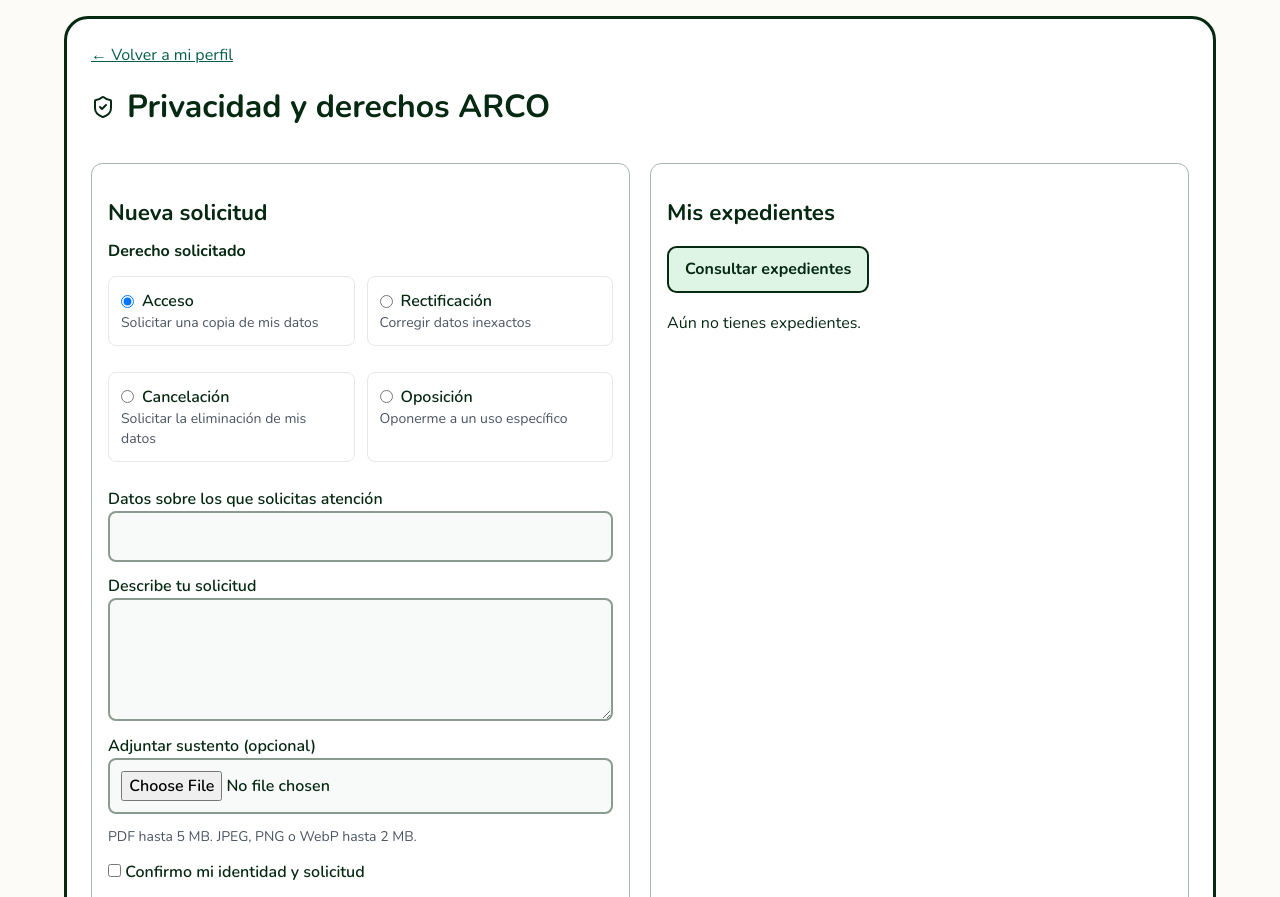
shows a tracking reference only after the case is recorded
Expected: the text "Aún no tienes expedientes." is shown, x1=667 y1=312 x2=861 y2=334
Click the radio button labelled "Rectificación Corregir datos inexactos": (386, 301) x1=380 y1=294 x2=392 y2=308
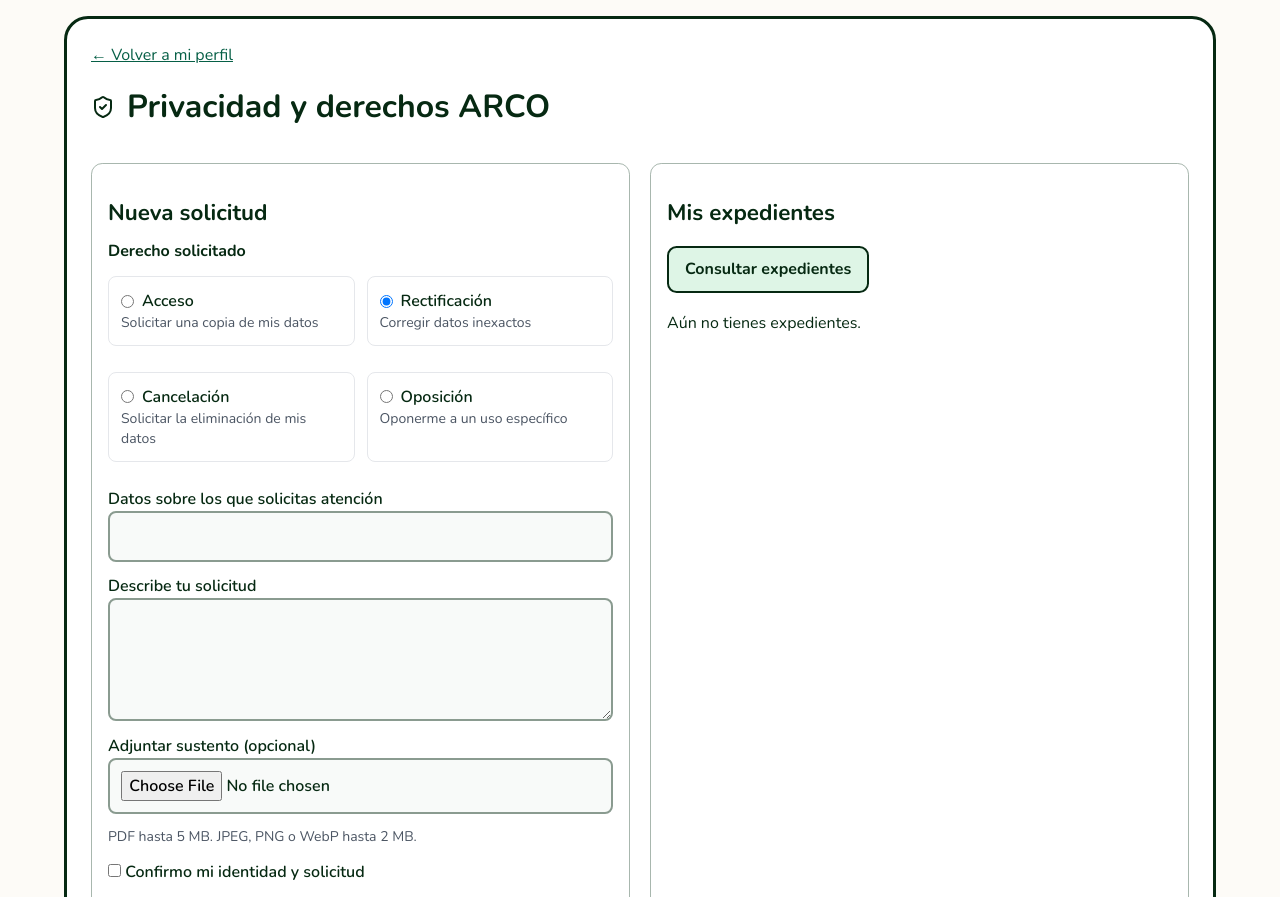
In the field labelled "Datos sobre los que solicitas atención": (360, 536) x1=108 y1=511 x2=613 y2=562, type "Correo de mi perfil"
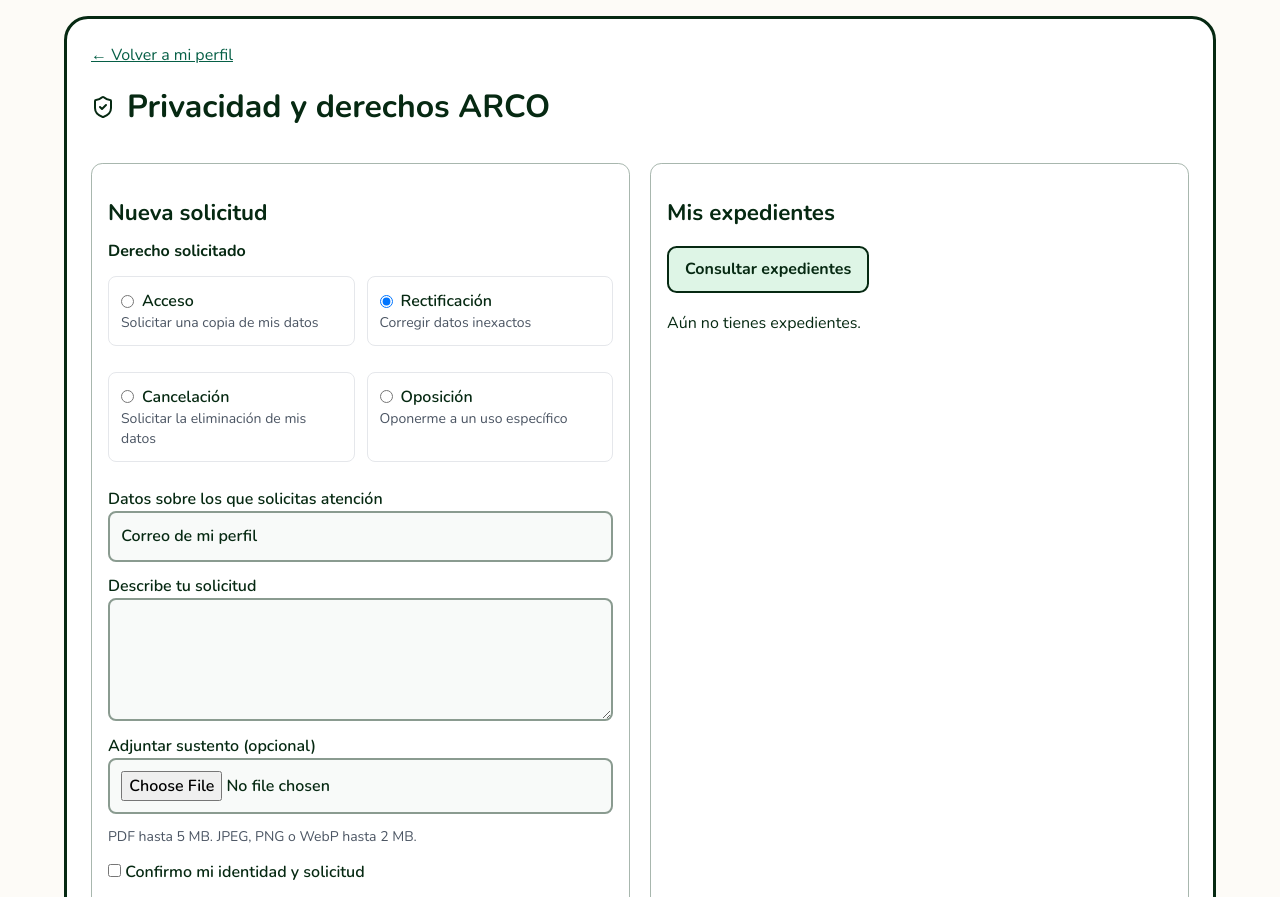
In the text box labelled "Describe tu solicitud": (360, 660) x1=108 y1=598 x2=613 y2=721, type "El correo registrado está desactualizado."
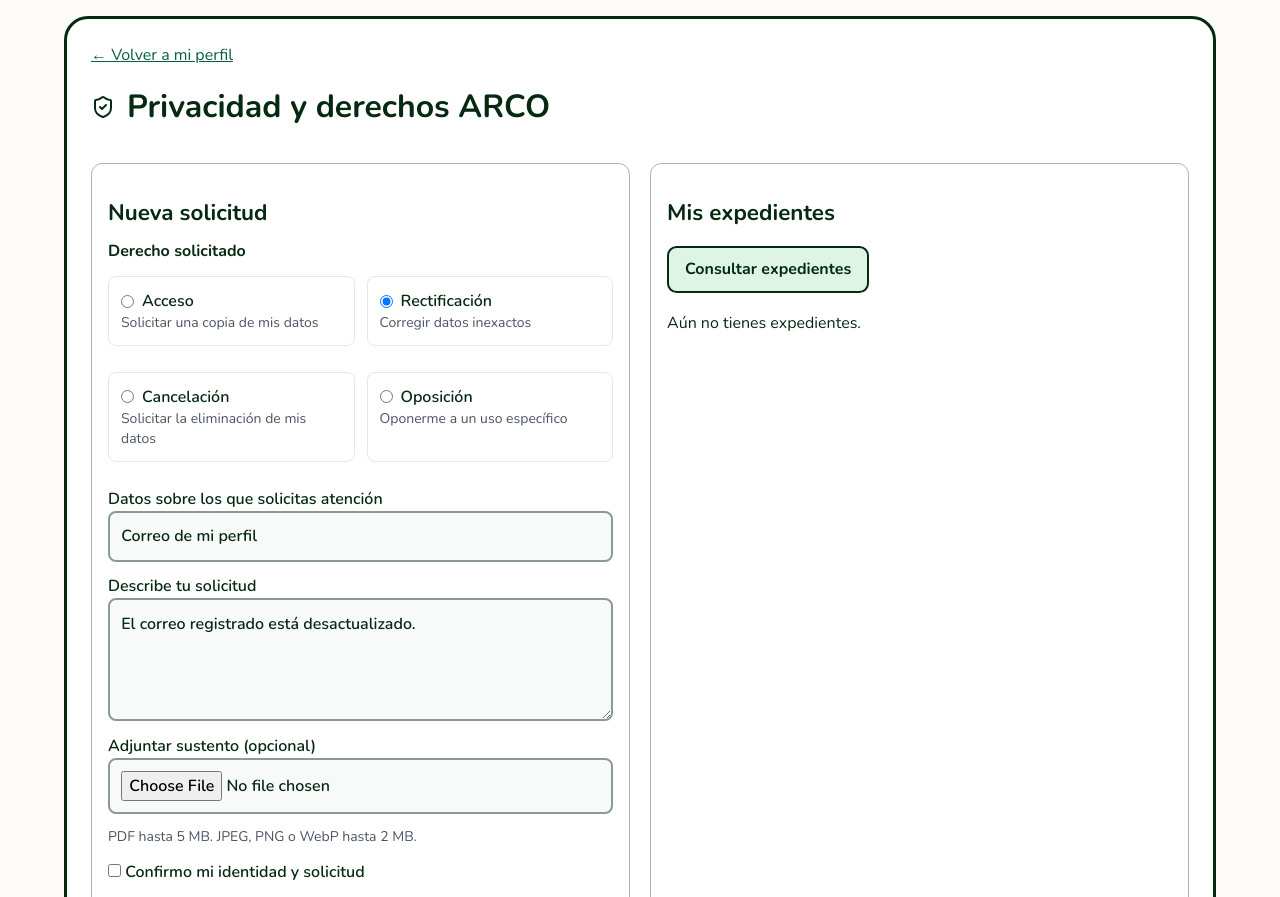
Click the checkbox labelled "Confirmo mi identidad y solicitud": (114, 870) x1=108 y1=864 x2=121 y2=876
(page scrolled)
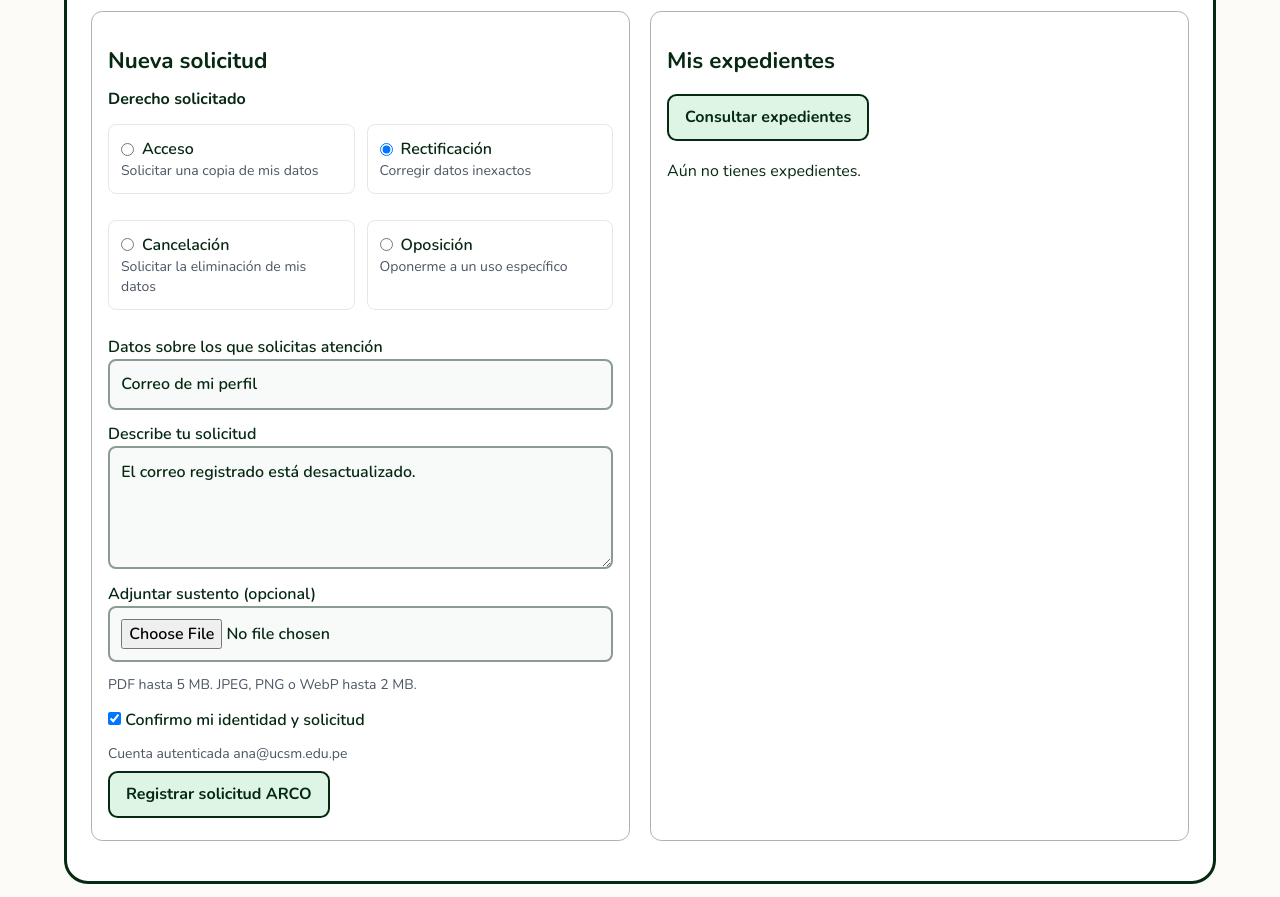
Click the button "Registrar solicitud ARCO": (219, 794) x1=108 y1=771 x2=330 y2=818
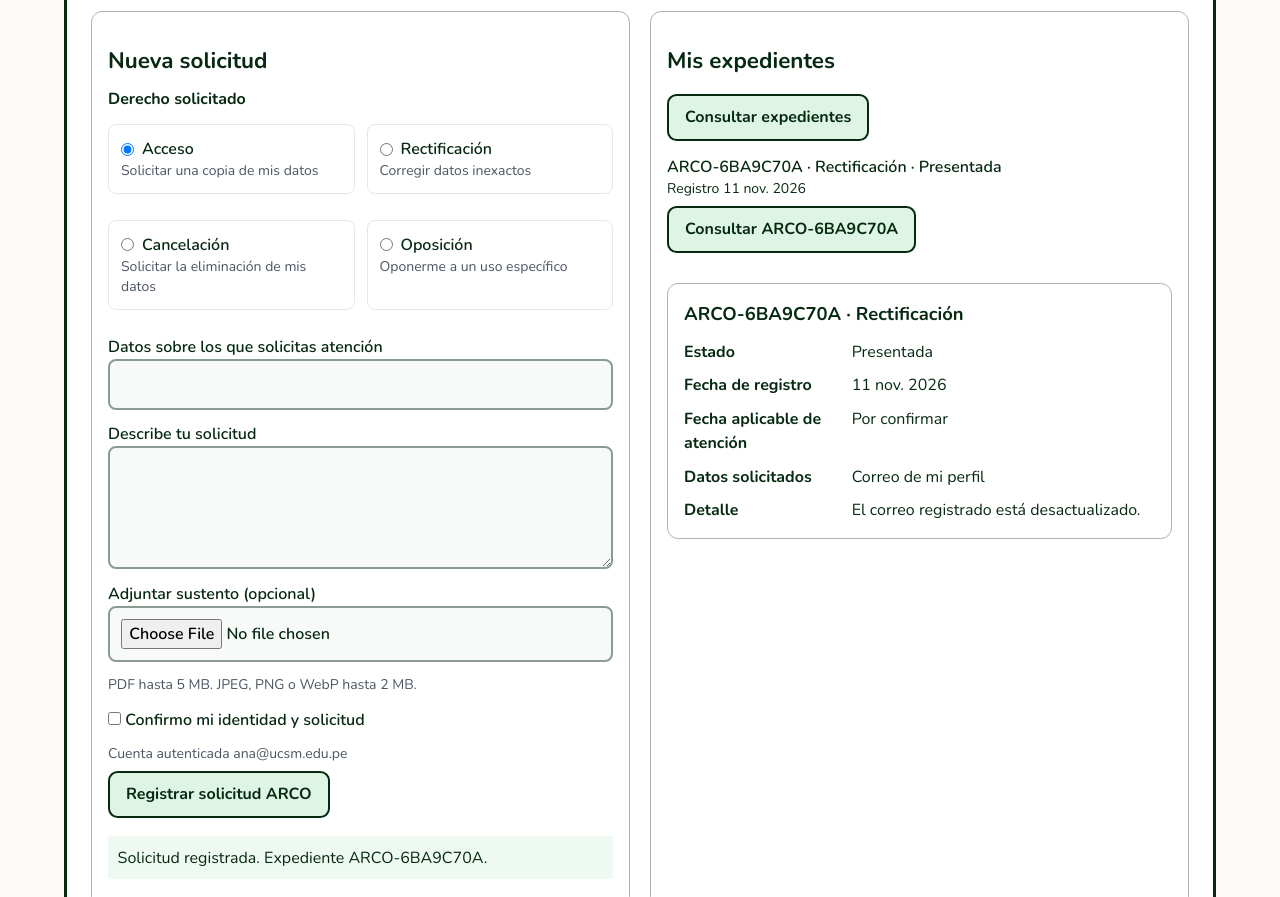
Expected: the text "Solicitud registrada. Expediente ARCO-6BA9C70A." is shown, x1=108 y1=836 x2=613 y2=880
